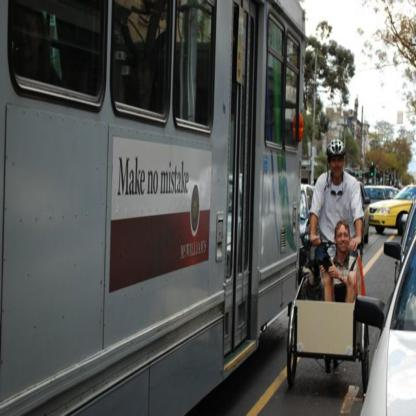Bus: (0, 0, 307, 415)
